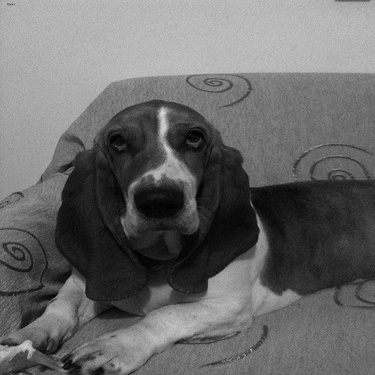dog: (1, 93, 372, 373)
